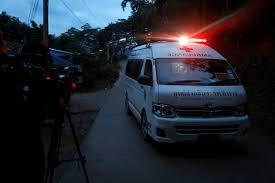ambulance: (119, 31, 255, 150)
